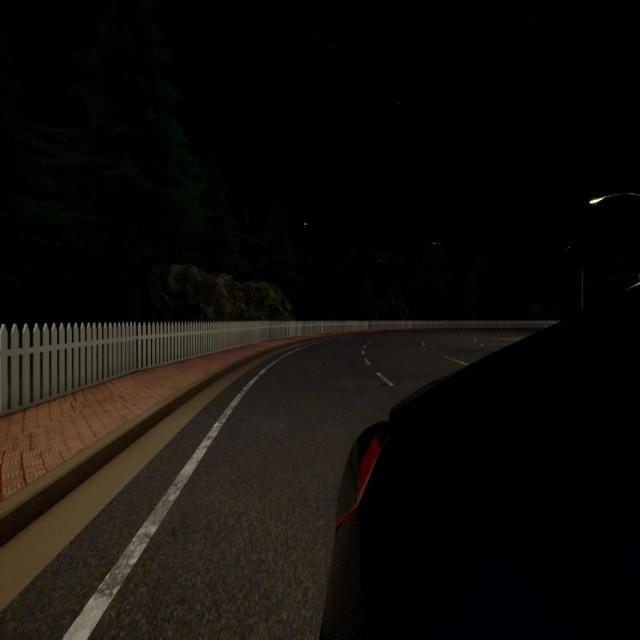Vehicle: (322, 285, 640, 640)
